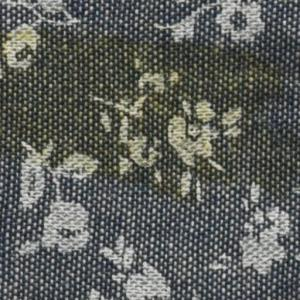Oil Stain: (1, 26, 297, 210)
